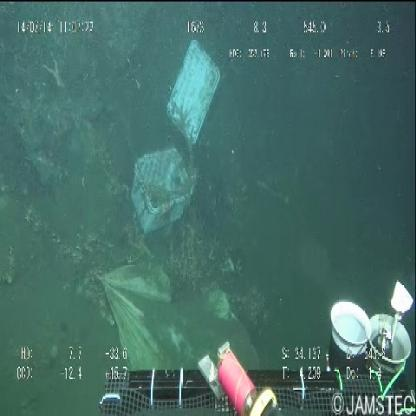Rov: (89, 277, 416, 416)
Rác: (121, 32, 228, 242)
